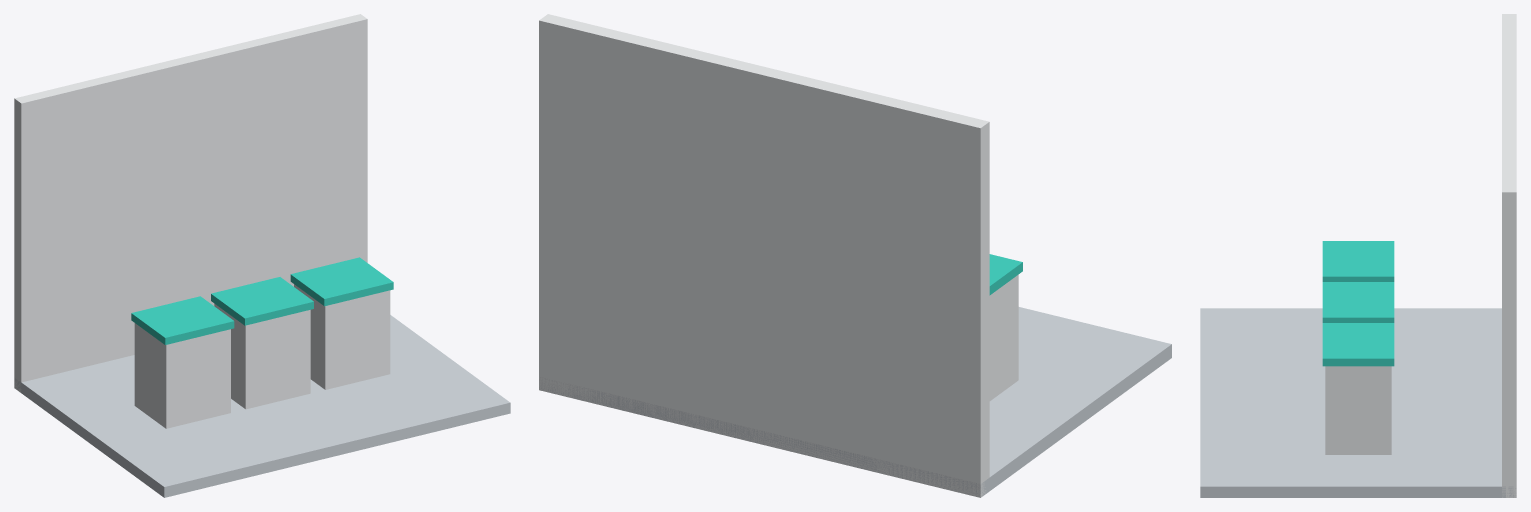
3 views of the same model, side by side, from view 1: azimuth 30°, elevation 25°; view 2: azimuth 150°, elevation 25°; view 3: azimuth 270°, elevation 25° (orthographic). The views are drawn at different scales.
Visible parts, largest first — view 1: Exhibition Booth Concept; view 2: Exhibition Booth Concept; view 3: Exhibition Booth Concept.
Boxes of the visible parts, box(x1,y1,x2,y2) form: Exhibition Booth Concept: box(14, 14, 510, 497); Exhibition Booth Concept: box(539, 14, 1171, 497); Exhibition Booth Concept: box(1200, 14, 1516, 497).
Size of the model in its own units: 4 by 3.2 by 3.
